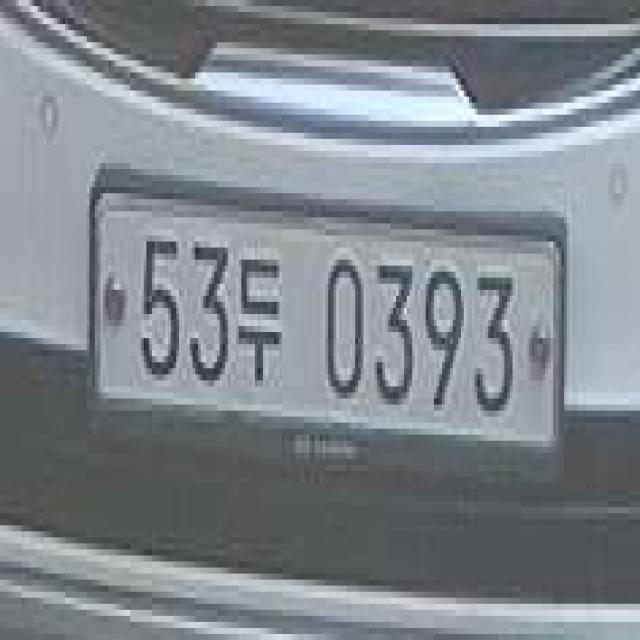0: (320, 254, 369, 416)
3: (184, 224, 230, 398), (472, 266, 521, 428), (372, 259, 418, 416)
5: (136, 224, 184, 380)
9: (426, 242, 477, 428)
du: (234, 242, 288, 404)
license_plate: (87, 169, 569, 483)
